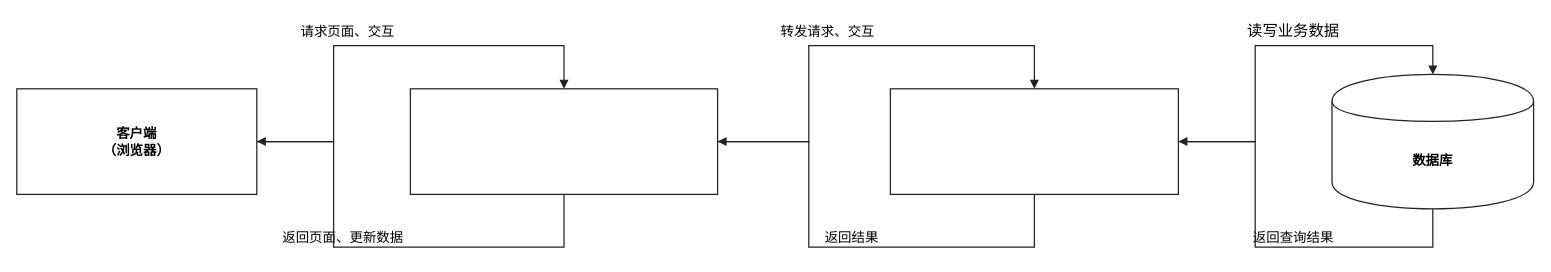
Some shapes in this 1551 by 272 pixel diagram are drawn without their labels. Here are the shapes that lost their labels. From the top down, the centre of each, then its label:
the point at 563,141: Node前端服务器 （中间层）
the point at 1034,141: Java后台（Spring）
